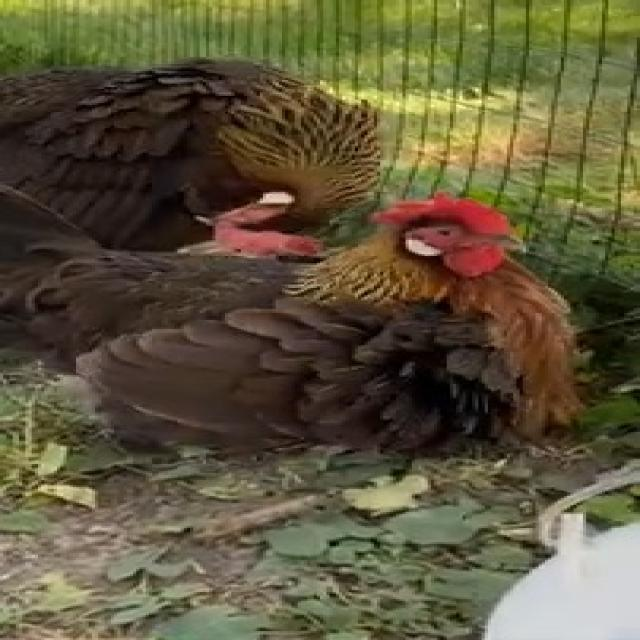self preening: (16, 163, 602, 473), (0, 54, 437, 244)
